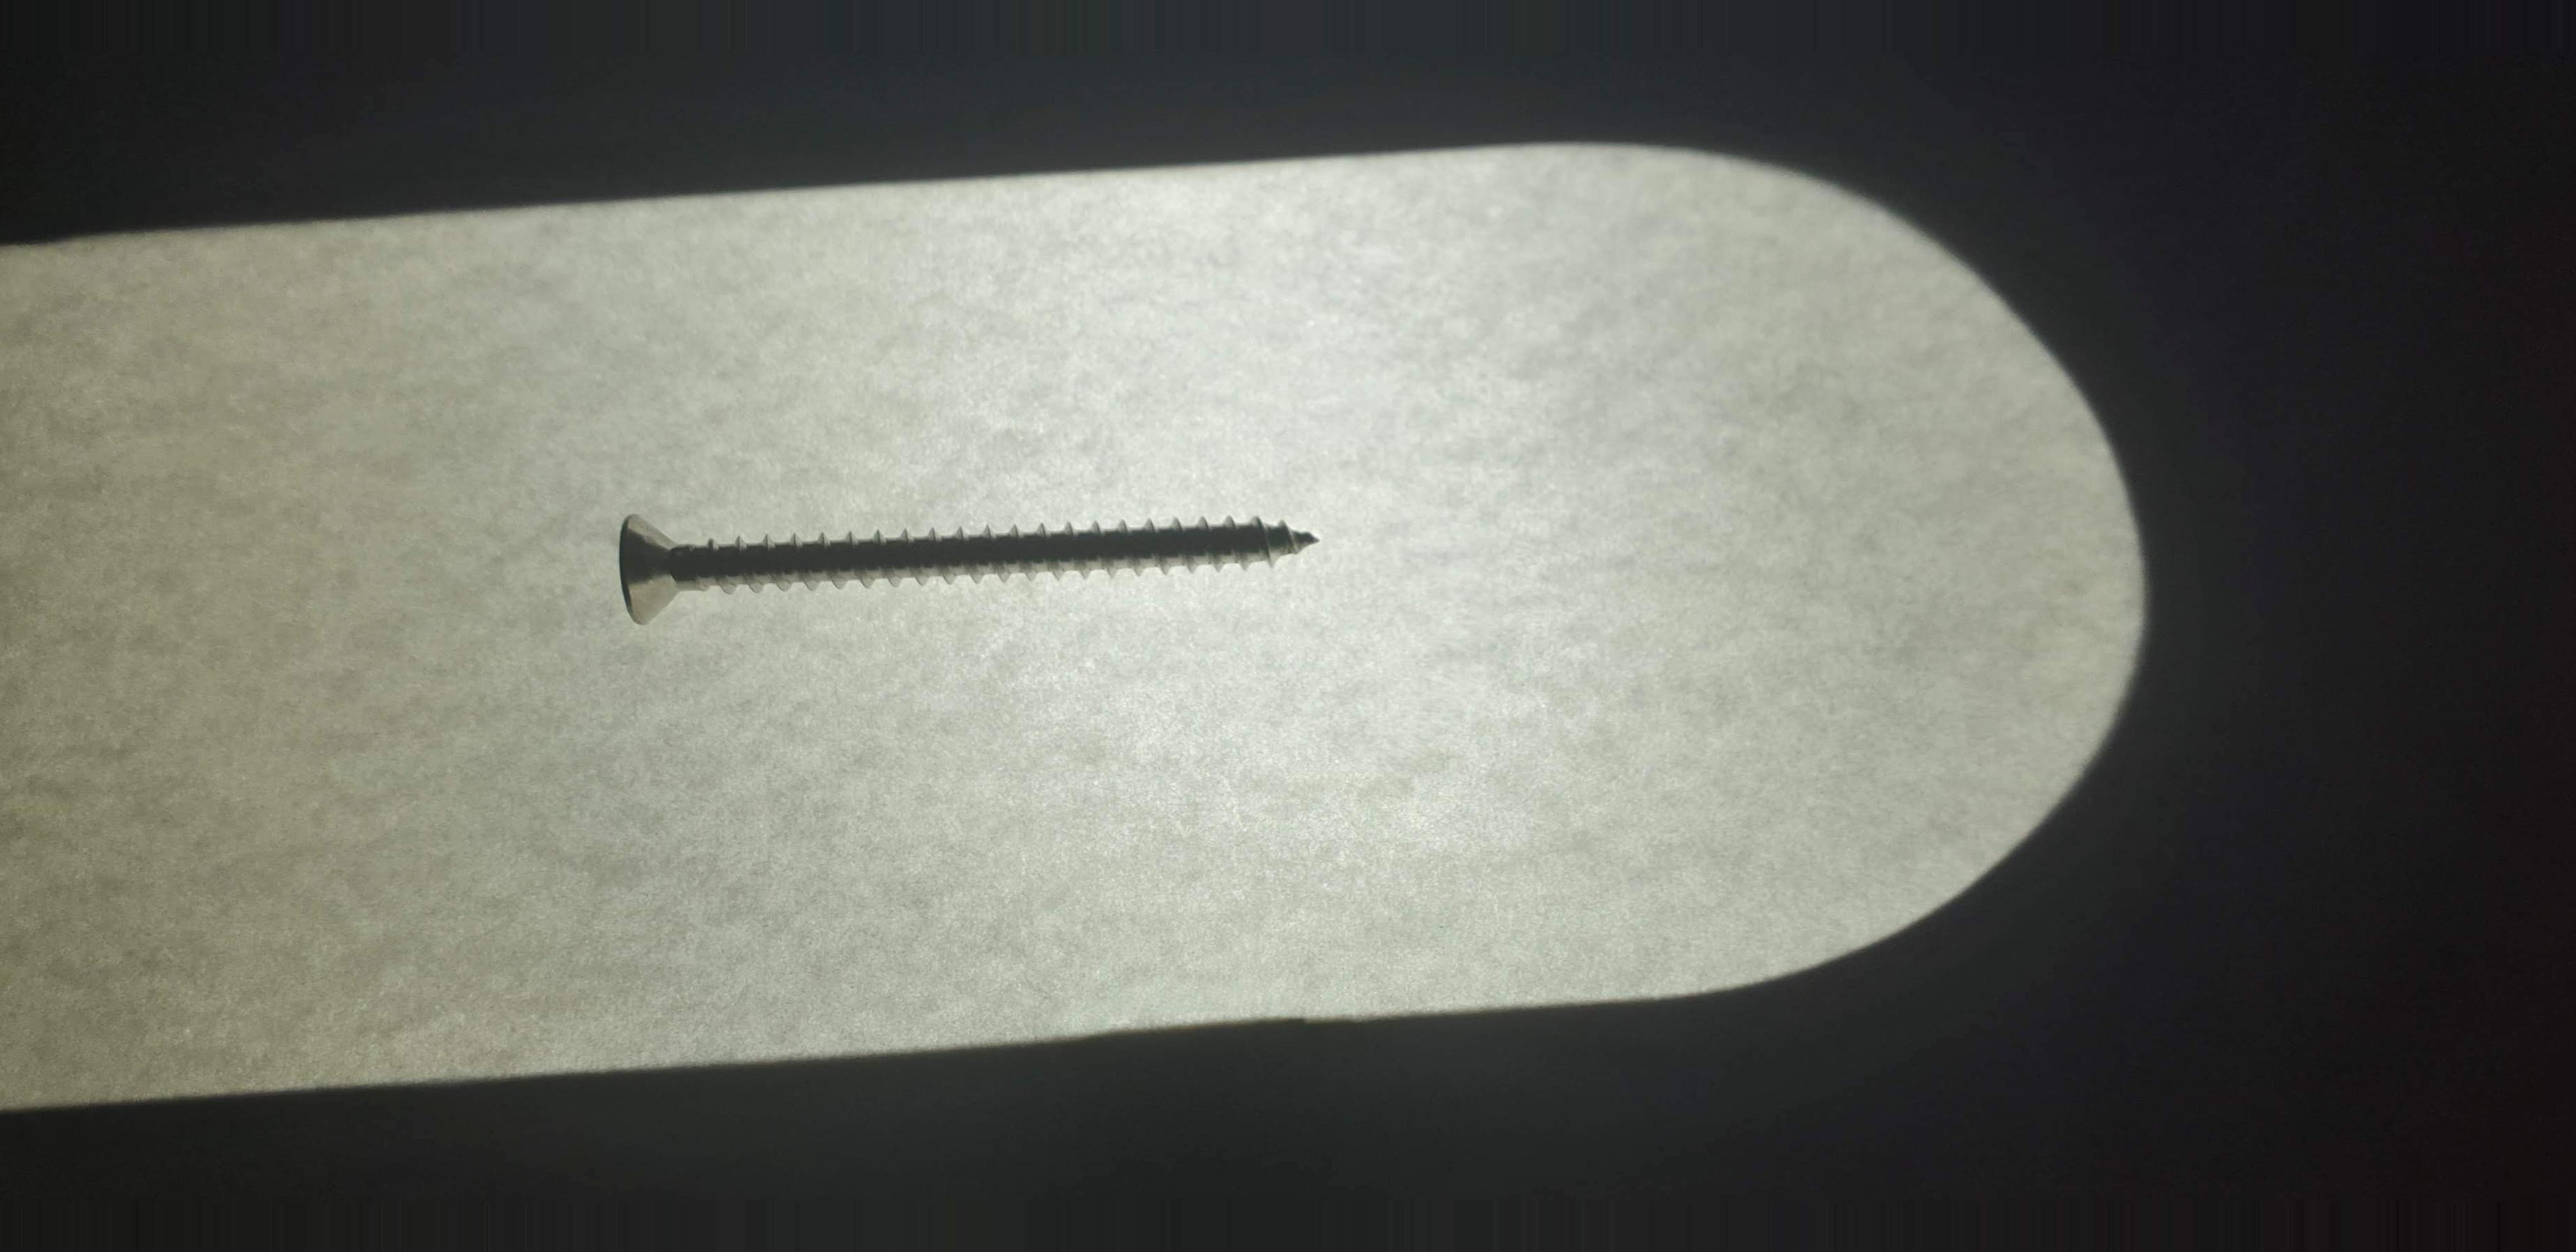S001: (580, 442, 1372, 652)
